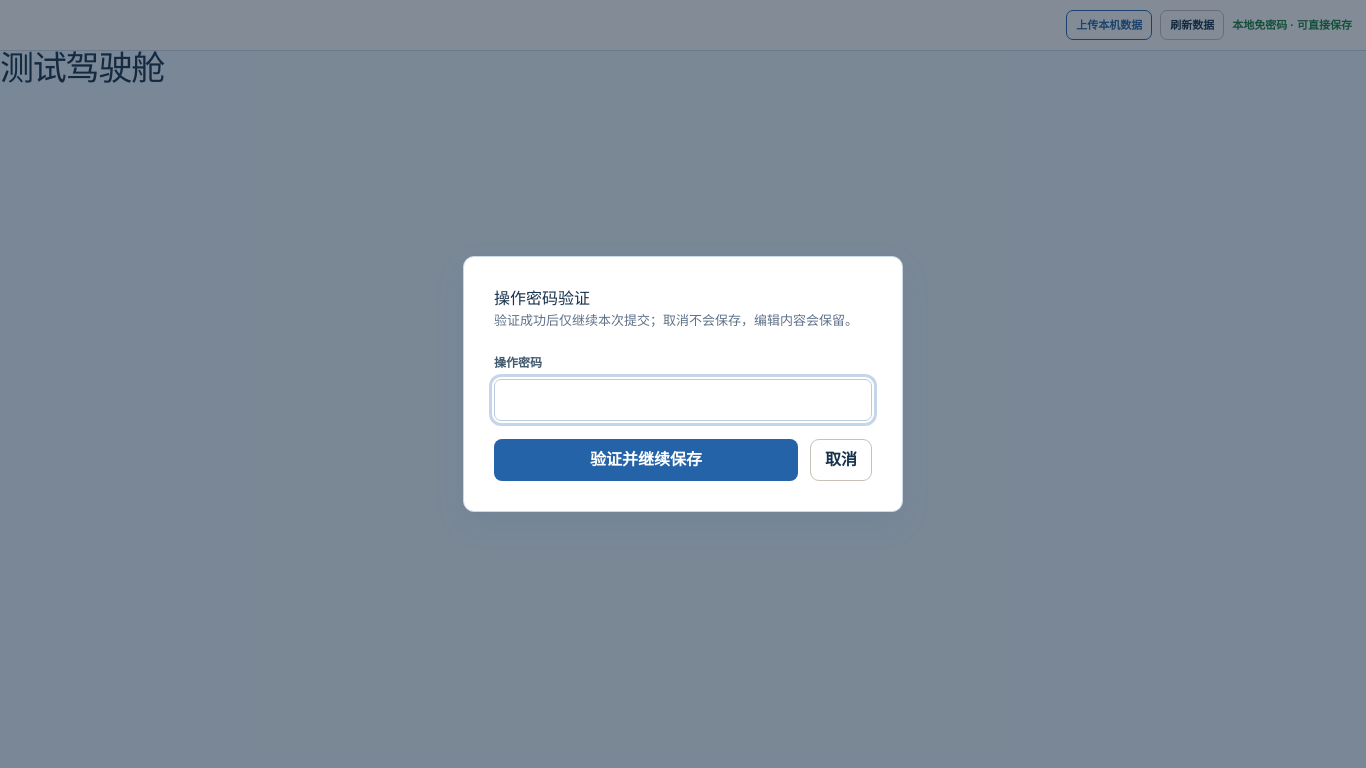
keeps the password dialog available if a protected operation explicitly requests authorization
Expected: the heading "测试驾驶舱" is shown, x1=0 y1=49 x2=164 y2=87
Expected: the dialog "操作密码验证" is shown, x1=463 y1=256 x2=903 y2=512
Step 1. Type "user-entered-password" into the password field labelled "操作密码" → (683, 400), box x1=494 y1=379 x2=872 y2=421
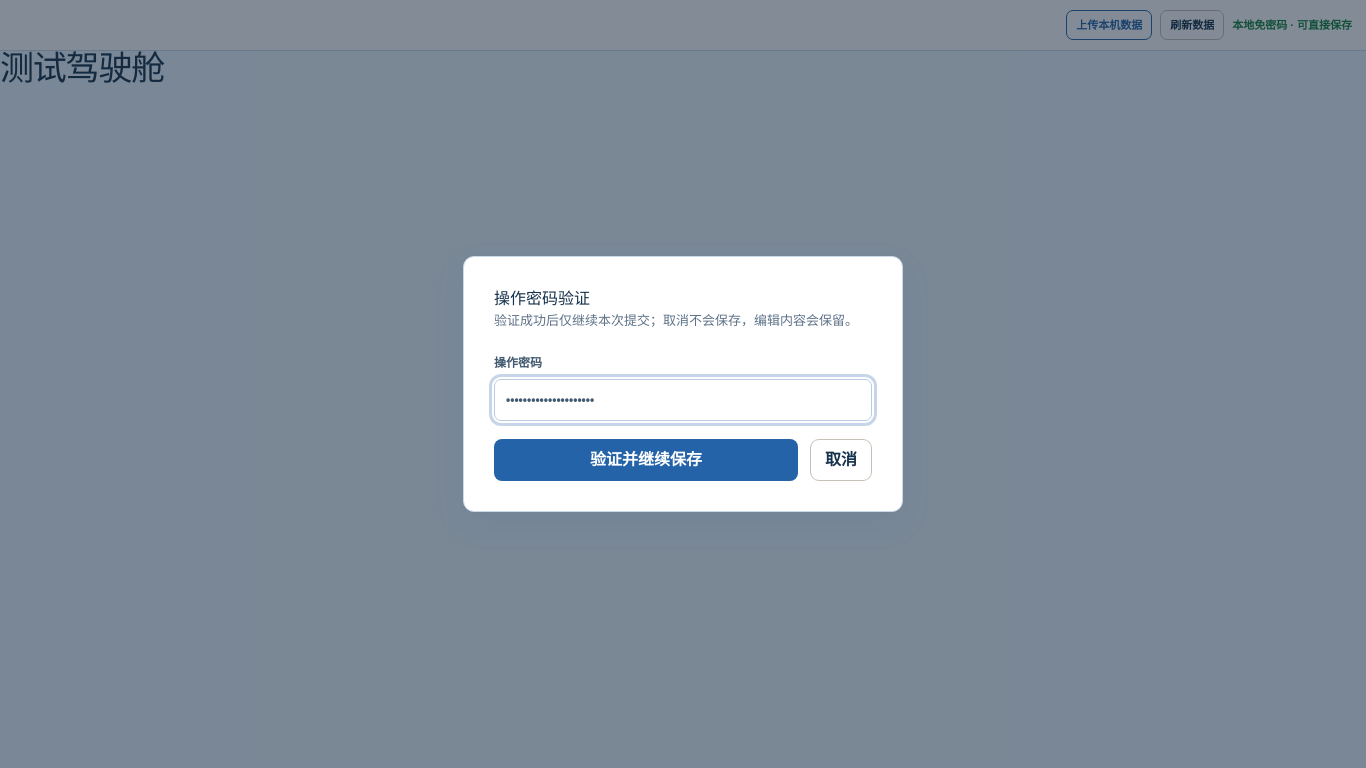
Step 2. Click the button "验证并继续保存" → (646, 460), box x1=494 y1=439 x2=798 y2=481
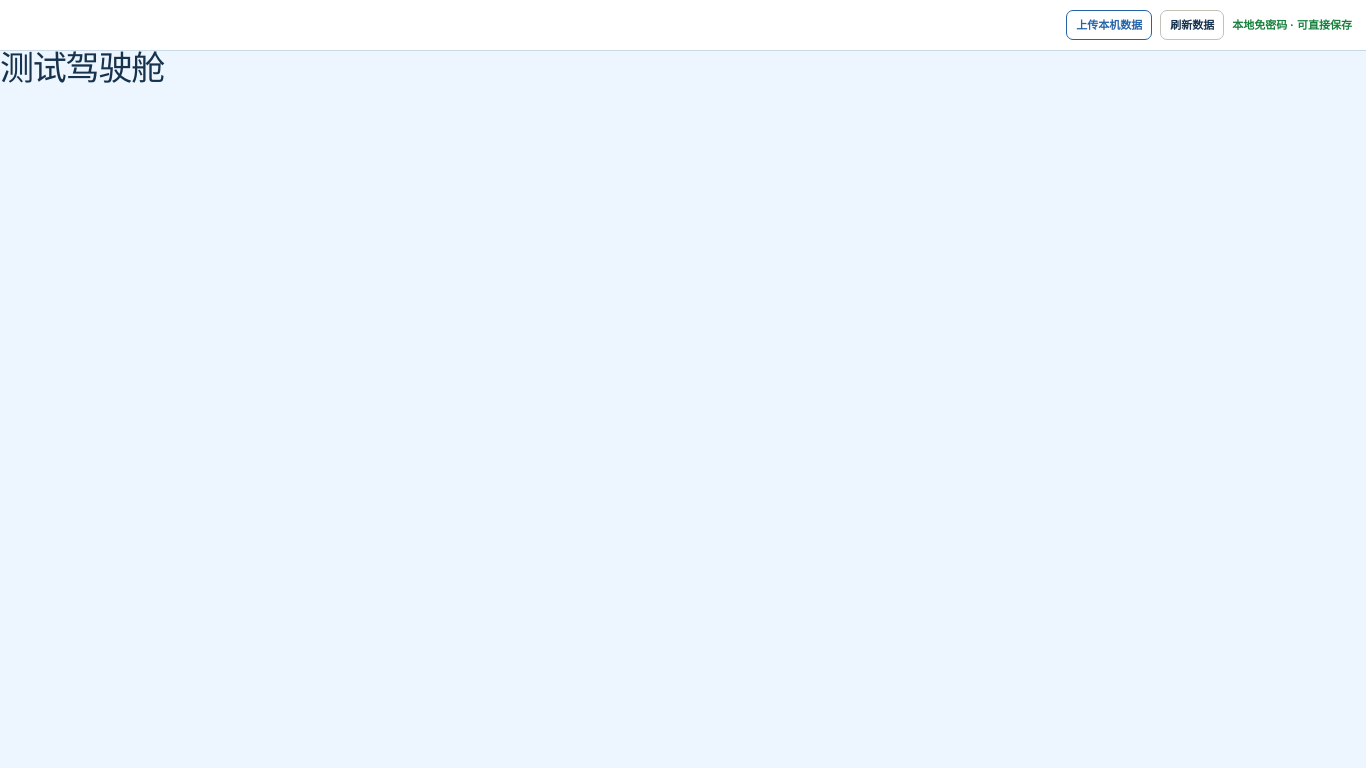
Expected: the text "本地免密码 · 可直接保存" is shown, x1=1232 y1=17 x2=1352 y2=33
Expected: the dialog is gone
